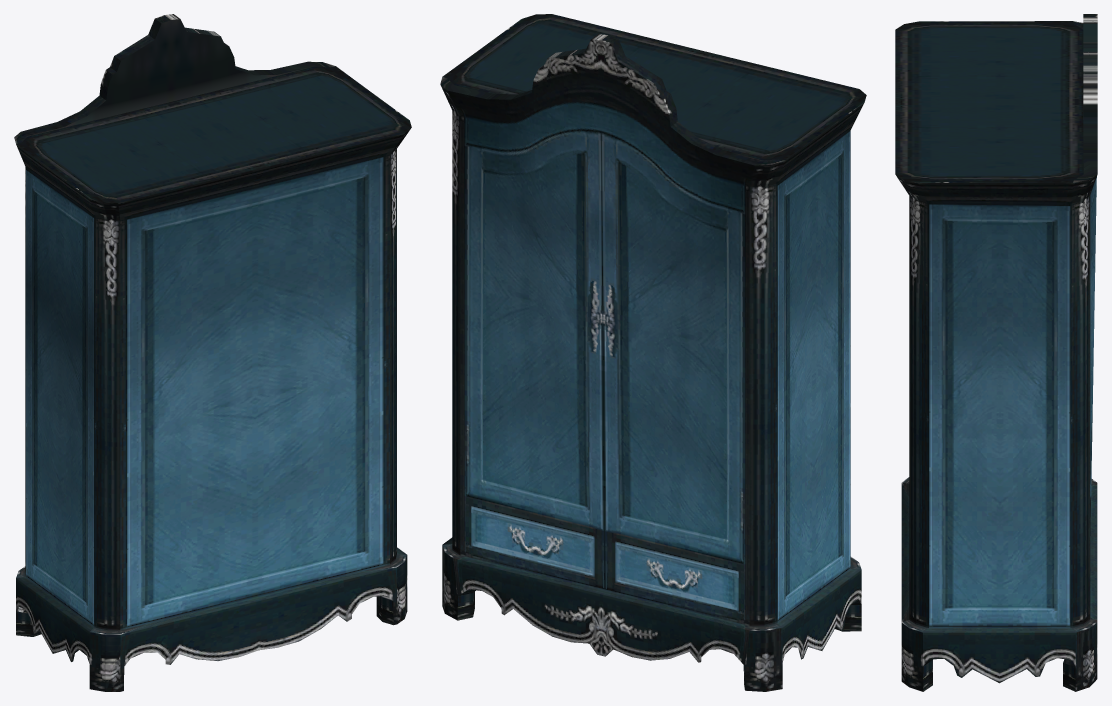
Rendered from furni_0201218_01.FBX.
3 renders of one model, left to right at view 1: azimuth 30°, elevation 25°; view 2: azimuth 150°, elevation 25°; view 3: azimuth 270°, elevation 25°, orthographic. The views are drawn at different scales.
Parts seen in each view (by area): view 1: furni_0201218_01; view 2: furni_0201218_01; view 3: furni_0201218_01.
Boxes of the visible parts, left/top/right/bottom form: furni_0201218_01: left=14, top=14, right=411, bottom=691; furni_0201218_01: left=440, top=14, right=866, bottom=691; furni_0201218_01: left=895, top=14, right=1097, bottom=691.
Bounding box in the file's own units: 169 × 290 × 89.31.
